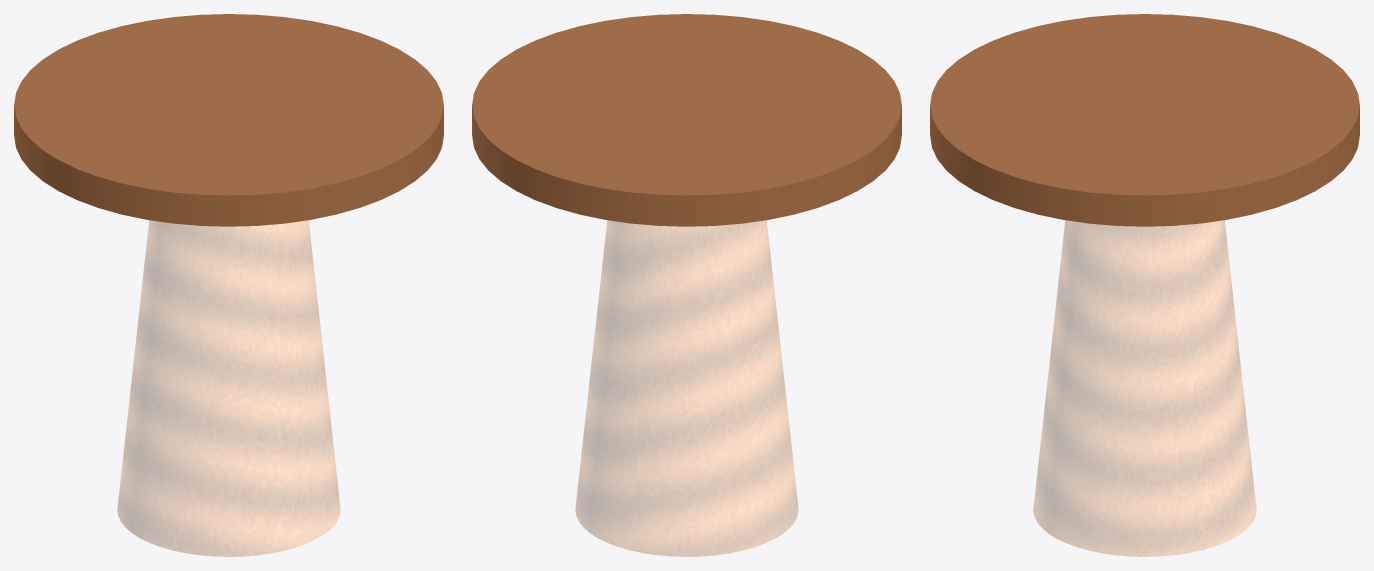
File: ref06_23.glb
The picture shows the model from 3 angles, left to right: view 1: azimuth 30°, elevation 25°; view 2: azimuth 150°, elevation 25°; view 3: azimuth 270°, elevation 25°; orthographic projection.
Parts seen in each view (by area): view 1: ref06_23; view 2: ref06_23; view 3: ref06_23.
Boxes of the visible parts, <box> form: ref06_23: <box>14,14,443,556</box>; ref06_23: <box>472,14,901,556</box>; ref06_23: <box>930,14,1359,556</box>.
Size of the model in its own units: 0.5 by 0.52 by 0.5.
2 materials, 1 textured.
